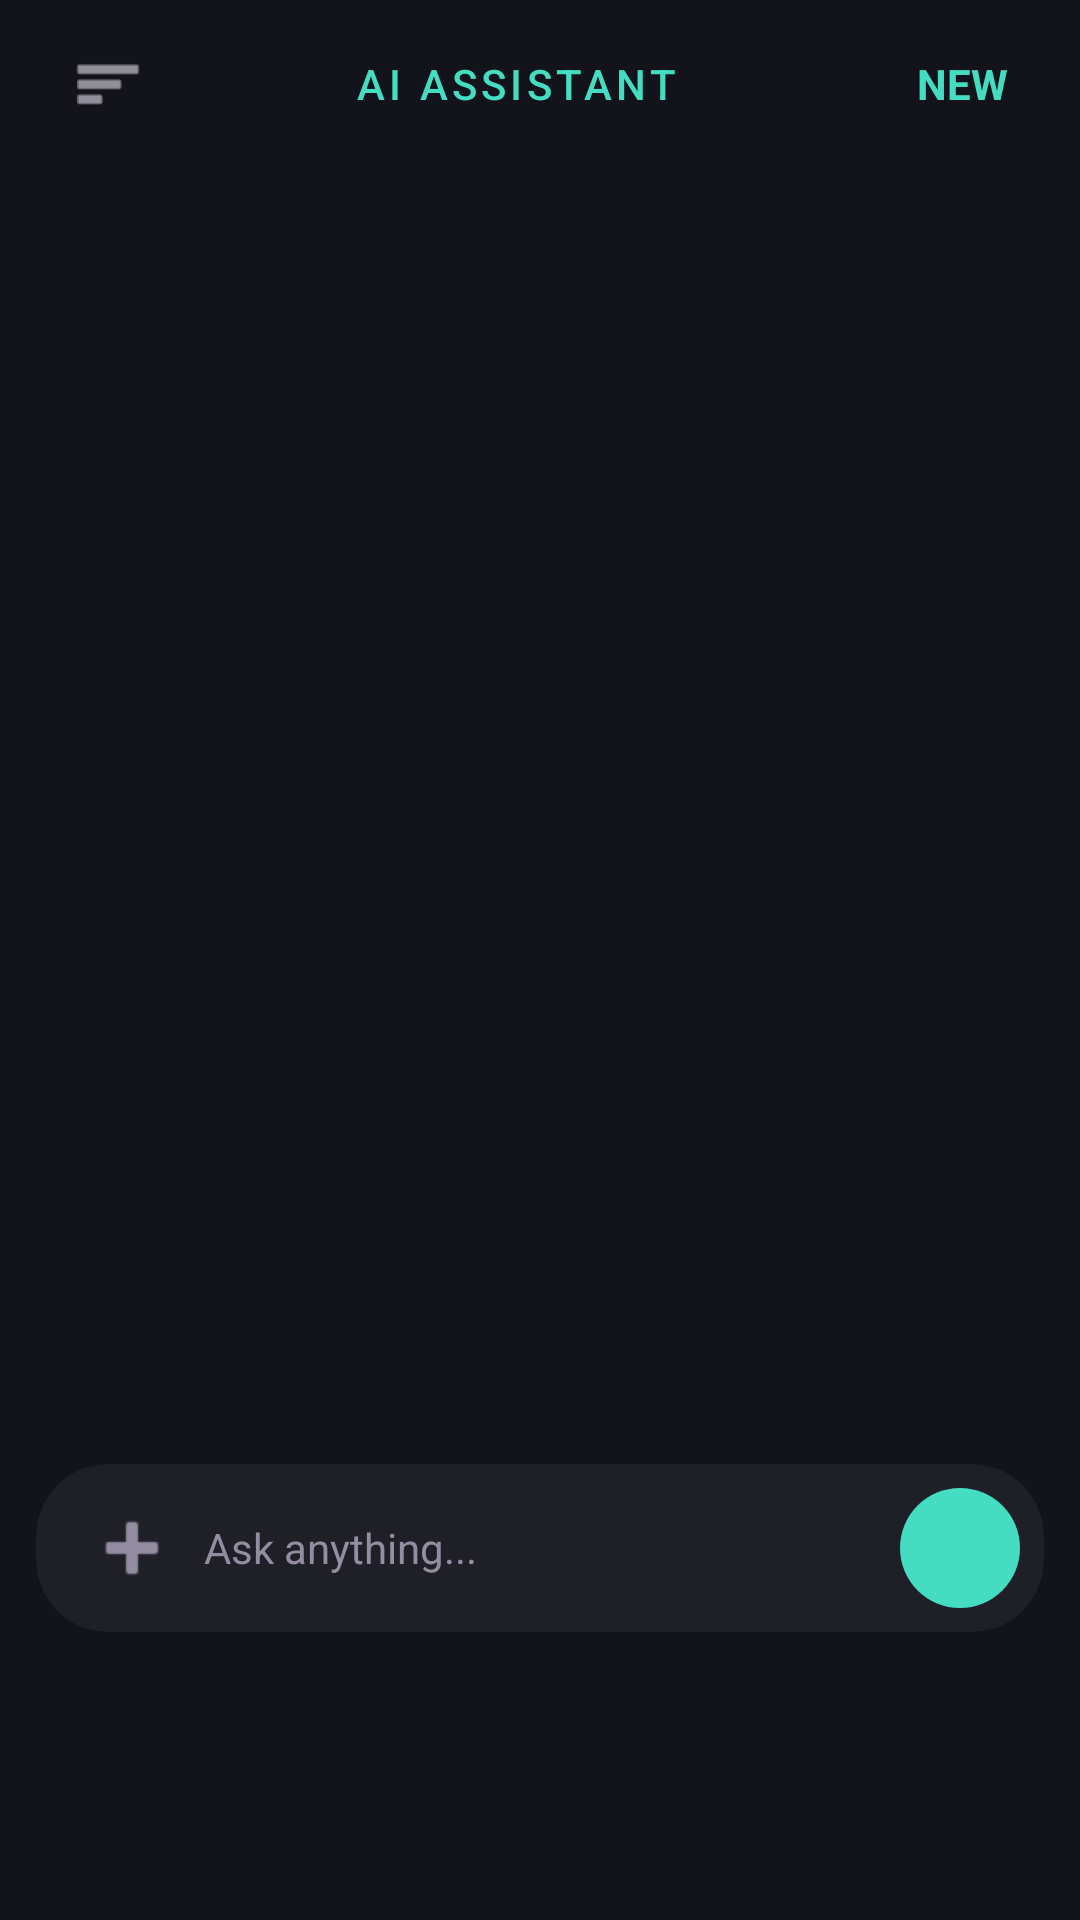

Named icons in this screenshot (1080px×1920px) and their bounding boxes, [left=x1, top=y1, right=x2, bottom=y2]:
add: [left=105, top=1521, right=159, bottom=1575]
sort by size: [left=77, top=64, right=139, bottom=105]
